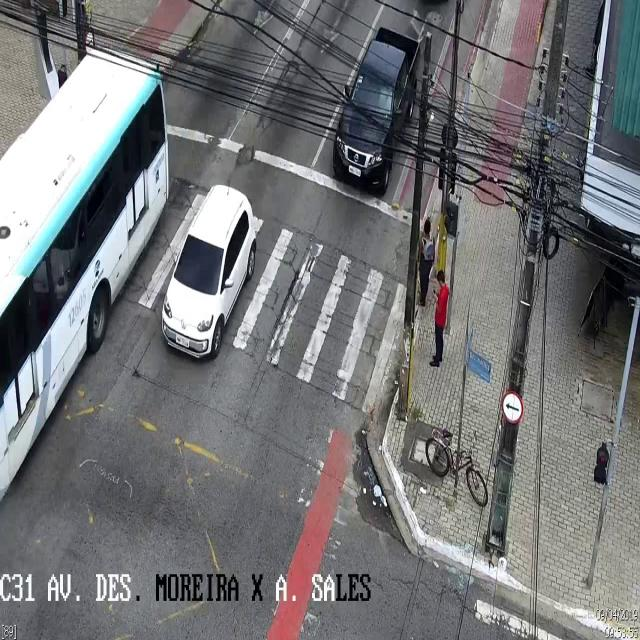Bus: (0, 53, 169, 499)
Car: (161, 183, 257, 365), (332, 28, 419, 200)
